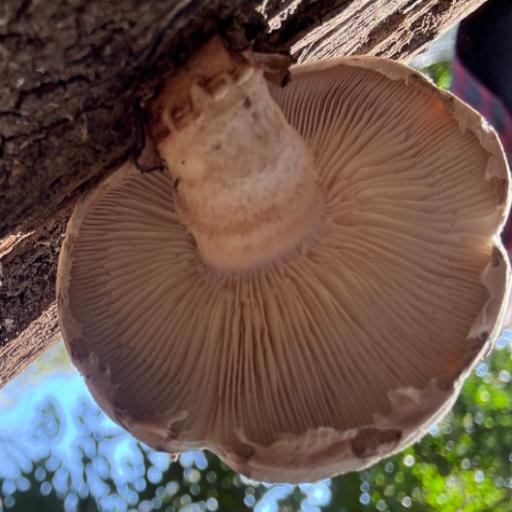Shiitake Mushroom: (40, 10, 512, 494)
